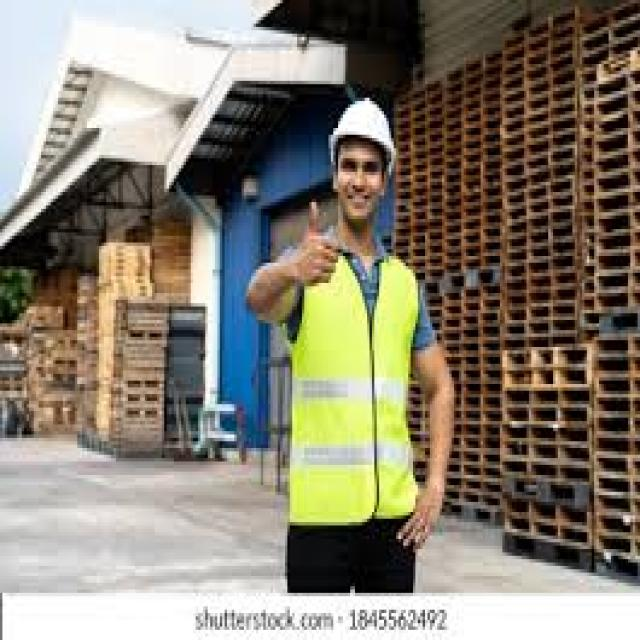Reflective-Jacket: (273, 229, 423, 536)
Safety-Helmet: (326, 91, 401, 158)
